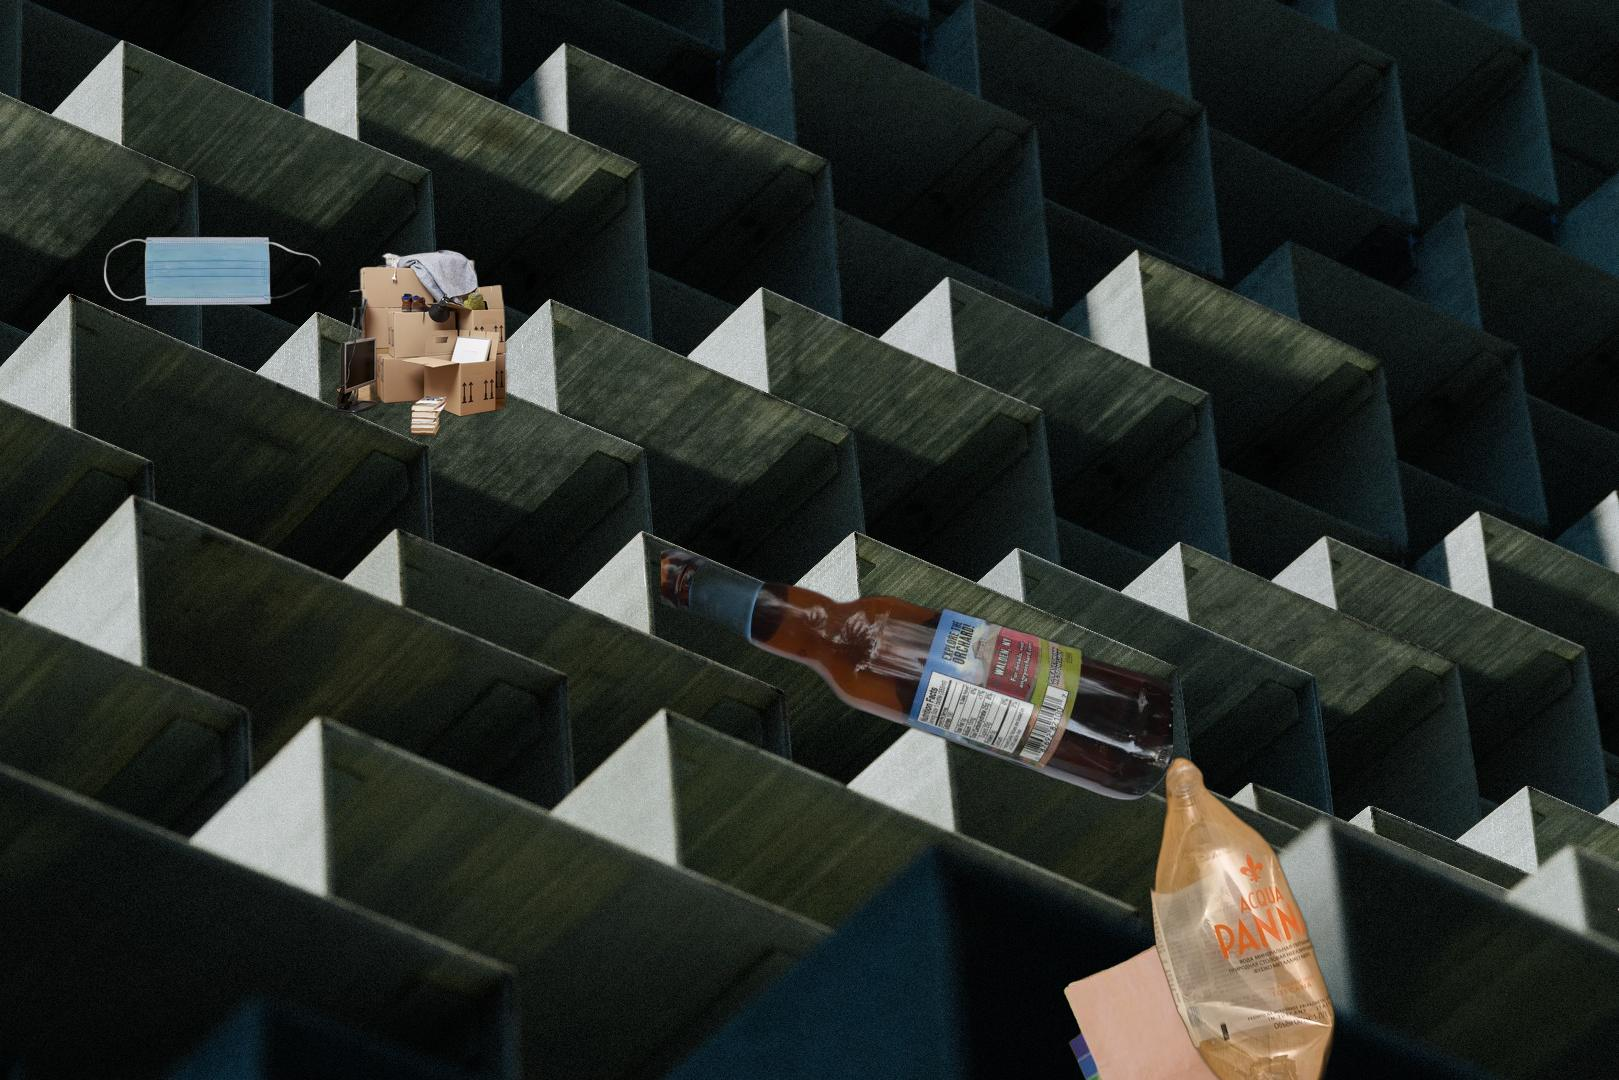glass: (661, 545, 1173, 802)
paper-bag: (1060, 937, 1244, 1080)
plastic-bag: (1614, 747, 1619, 949)
plastic-bottles: (1146, 753, 1338, 1080)
trash: (101, 234, 324, 309)
trashbox-cardboard: (332, 247, 512, 438)
